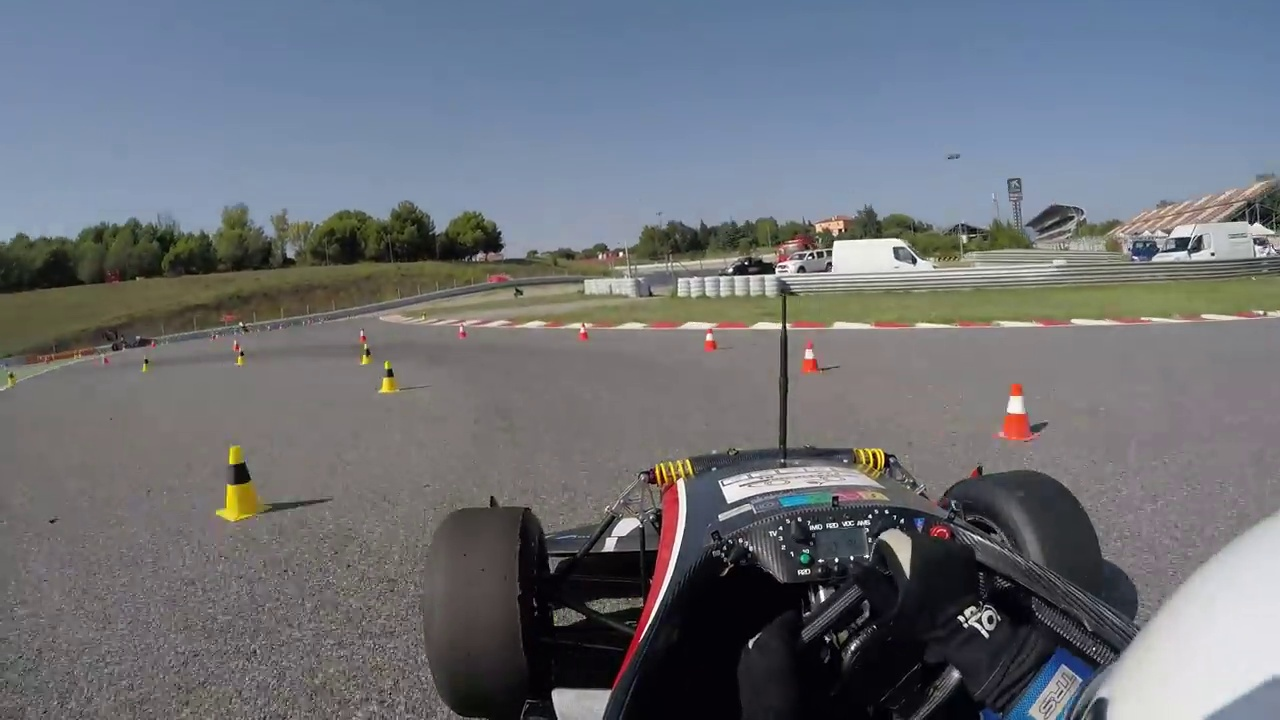Cone: (220, 441, 265, 522), (997, 382, 1040, 443), (799, 339, 821, 377), (376, 361, 402, 391)
